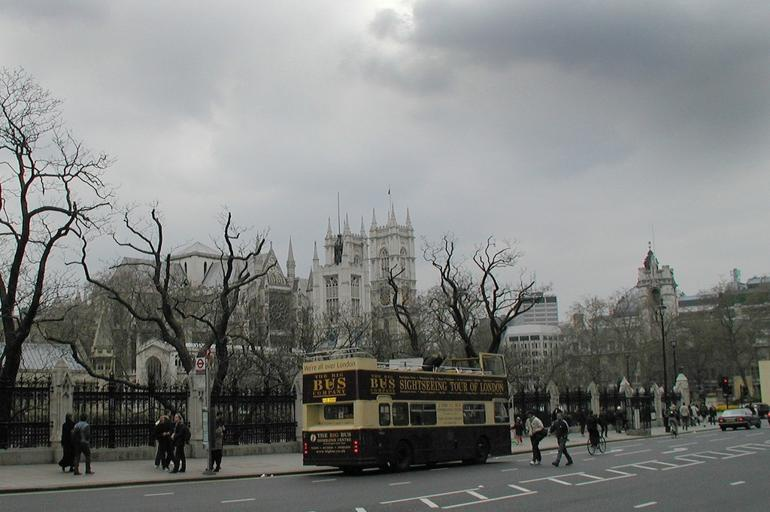non-vehicle: (587, 431, 605, 455), (670, 422, 678, 438)
